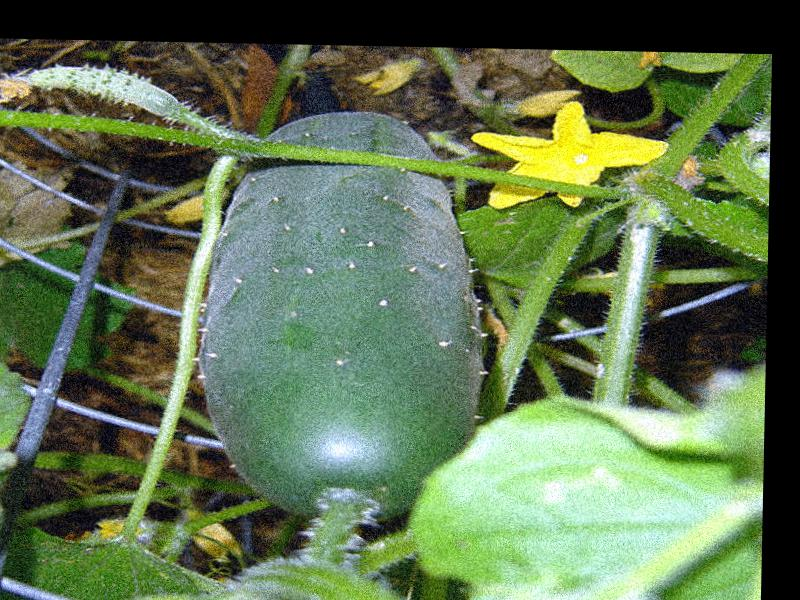Cucumber: (192, 110, 486, 523)
